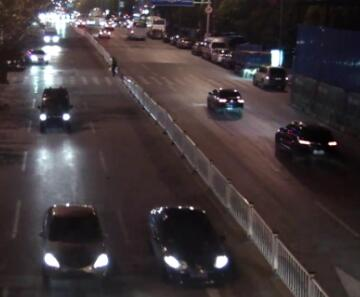bus: (125, 19, 148, 40), (144, 15, 167, 36), (131, 12, 144, 26)
car: (148, 205, 232, 290), (37, 204, 111, 286), (275, 121, 343, 173), (36, 87, 74, 132), (231, 41, 269, 76), (206, 87, 245, 116), (251, 65, 288, 91), (200, 36, 230, 59), (24, 47, 49, 65), (40, 26, 61, 46), (210, 46, 229, 64), (174, 36, 190, 48), (97, 27, 112, 39), (190, 41, 203, 54), (167, 33, 178, 47), (74, 17, 85, 26), (85, 17, 95, 25)
